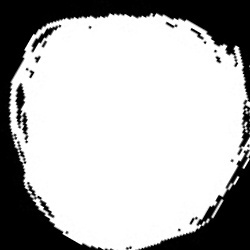spot: (6, 13, 249, 246)
